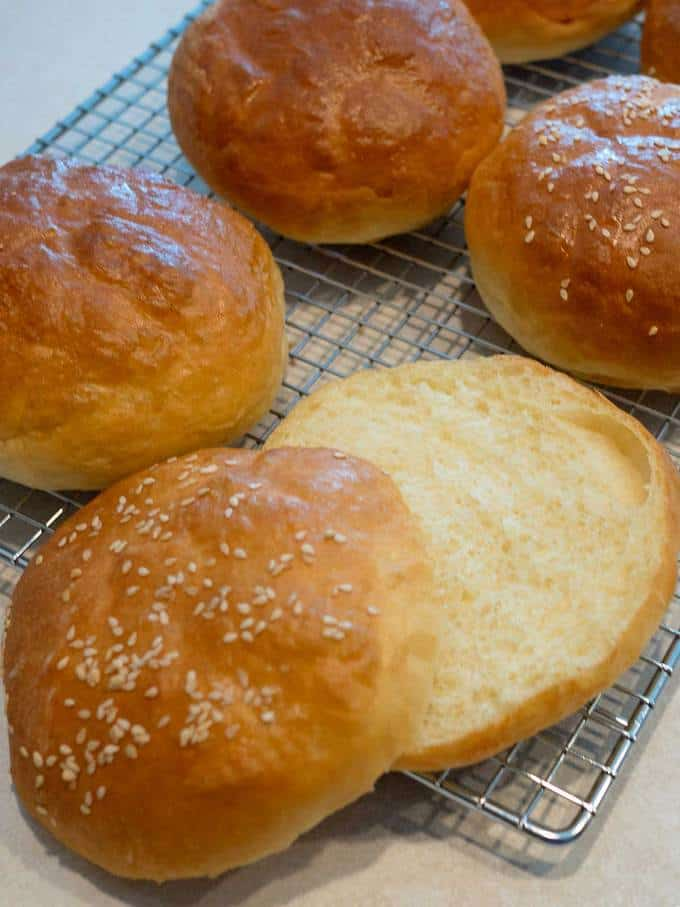hamburger_buns: (35, 313, 680, 888), (1, 144, 313, 476), (185, 1, 505, 255)
